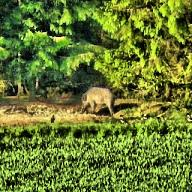boar: (80, 86, 115, 116)
